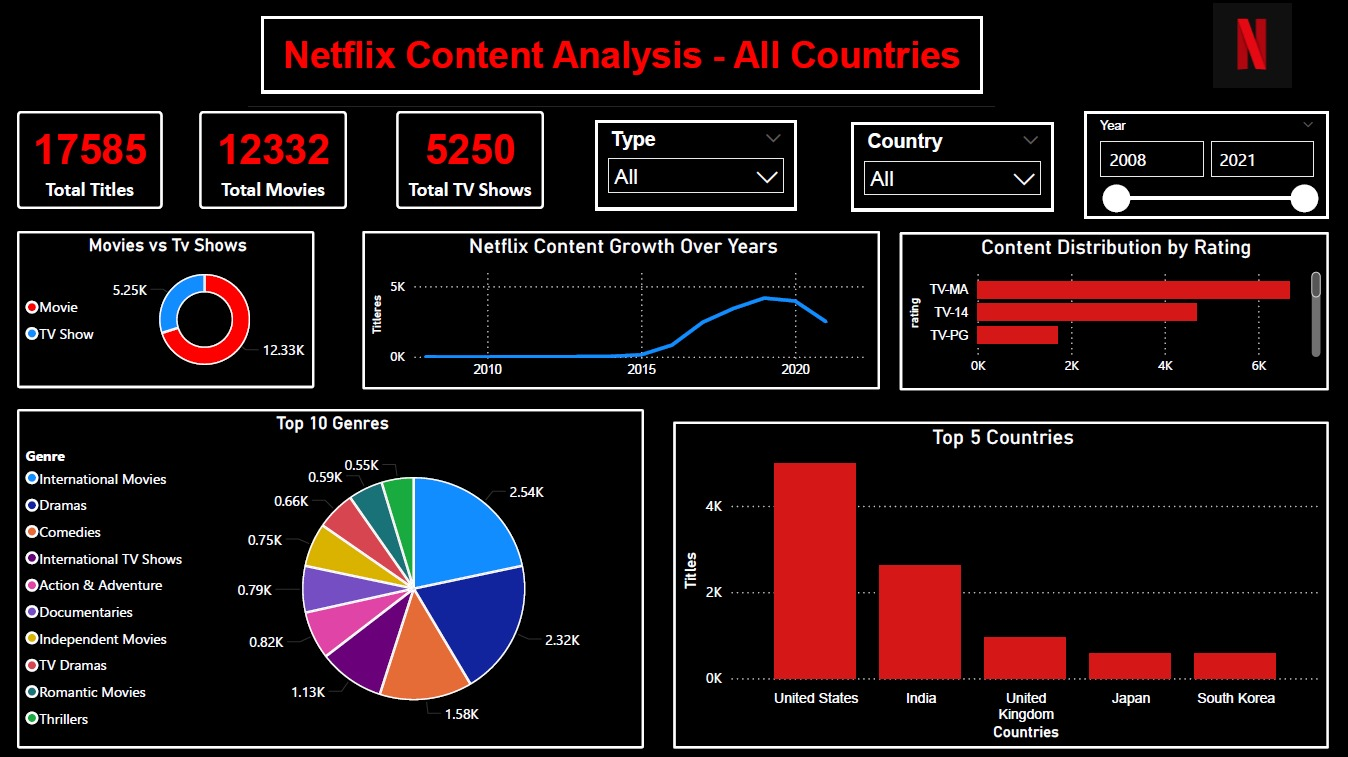

This screenshot's page, from the dashboard's own definition file:
{"tool":"powerbi","page":{"name":"Page 1","canvas":[1280,720],"ordinal":0},"visuals":[{"type":"image","box":[1097.8,5.5,182.5,79.6],"z":0},{"type":"card","fields":{"Values":["netflix_cleaned.Total Titles"]},"box":[16.5,107,137.2,93.3],"z":1000},{"type":"card","fields":{"Values":["netflix_cleaned.Total TV Shows"]},"box":[376,107,140,93.3],"z":2000},{"type":"card","fields":{"Values":["netflix_cleaned.Total Movies"]},"box":[189.4,107,140,93.3],"z":3000},{"type":"slicer","fields":{"Values":["netflix_cleaned.type"]},"box":[565,116.1,190.9,84.9],"z":4000},{"type":"slicer","fields":{"Values":["netflix_cleaned.country"]},"box":[808.2,118,192.1,83.7],"z":5000},{"type":"slicer","fields":{"Values":["netflix_cleaned.year_added"]},"box":[1029.2,107,231.9,101.5],"z":6000},{"type":"columnChart","title":"Top 5 Countries","fields":{"Category":["netflix_cleaned.country"],"Y":["CountNonNull(netflix_cleaned.show_id)"]},"box":[639.5,402.1,621.6,310.1],"z":7000},{"type":"pieChart","title":"Top 10 Genres","fields":{"Category":["netflix_cleaned.listed_in"],"Y":["CountNonNull(netflix_cleaned.show_id)"]},"box":[16.5,389.7,594.2,322.5],"z":8000},{"type":"donutChart","title":"Movies vs Tv Shows","fields":{"Category":["netflix_cleaned.type"],"Y":["CountNonNull(netflix_cleaned.show_id)"]},"box":[16.5,220.9,281.3,149.6],"z":9000},{"type":"lineChart","title":"Netflix Content Growth Over Years","fields":{"Y":["CountNonNull(netflix_cleaned.show_id)"],"Category":["netflix_cleaned.year_added"]},"box":[344.2,220.9,490.7,150],"z":10000},{"type":"barChart","title":"Content Distribution by Rating","fields":{"Category":["netflix_cleaned.rating"],"Y":["CountNonNull(netflix_cleaned.show_id)"]},"box":[853.5,222.3,407.5,149.6],"z":11000},{"type":"cardVisual","fields":{"Data":["netflix_cleaned.Dynamic Title"]},"box":[236,5.5,708.1,97.4],"z":12000}]}

Visuals, with their boxes in screenshot pixels (x1, y1, x2, y2), scaled from the page's 1280x720 canvas onto the 1348x757 screenshot:
image: x1=1156 y1=6 x2=1347 y2=89
card - netflix_cleaned.Total Titles: x1=17 y1=112 x2=162 y2=211
card - netflix_cleaned.Total TV Shows: x1=396 y1=112 x2=543 y2=211
card - netflix_cleaned.Total Movies: x1=199 y1=112 x2=347 y2=211
slicer - netflix_cleaned.type: x1=595 y1=122 x2=796 y2=211
slicer - netflix_cleaned.country: x1=851 y1=124 x2=1053 y2=212
slicer - netflix_cleaned.year_added: x1=1084 y1=112 x2=1328 y2=219
"Top 5 Countries" columnChart: x1=673 y1=423 x2=1328 y2=749
"Top 10 Genres" pieChart: x1=17 y1=410 x2=643 y2=749
"Movies vs Tv Shows" donutChart: x1=17 y1=232 x2=314 y2=390
"Netflix Content Growth Over Years" lineChart: x1=362 y1=232 x2=879 y2=390
"Content Distribution by Rating" barChart: x1=899 y1=234 x2=1328 y2=391
cardVisual - netflix_cleaned.Dynamic Title: x1=249 y1=6 x2=994 y2=108
